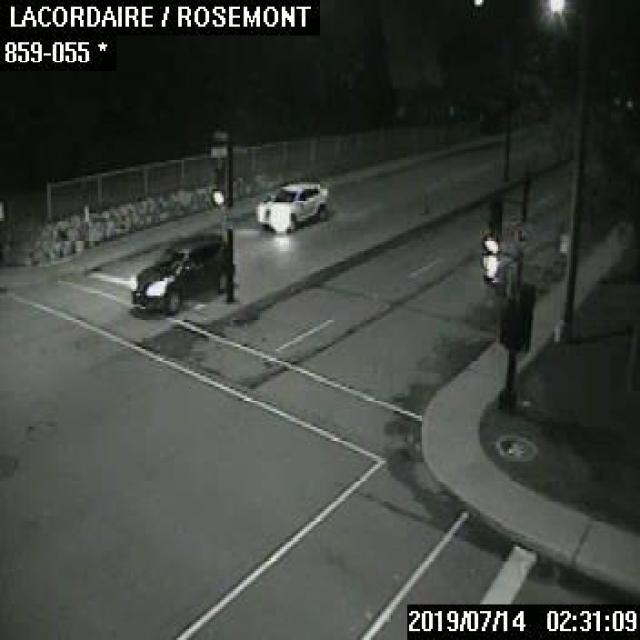vehicle: (128, 232, 226, 310), (255, 181, 327, 232)
